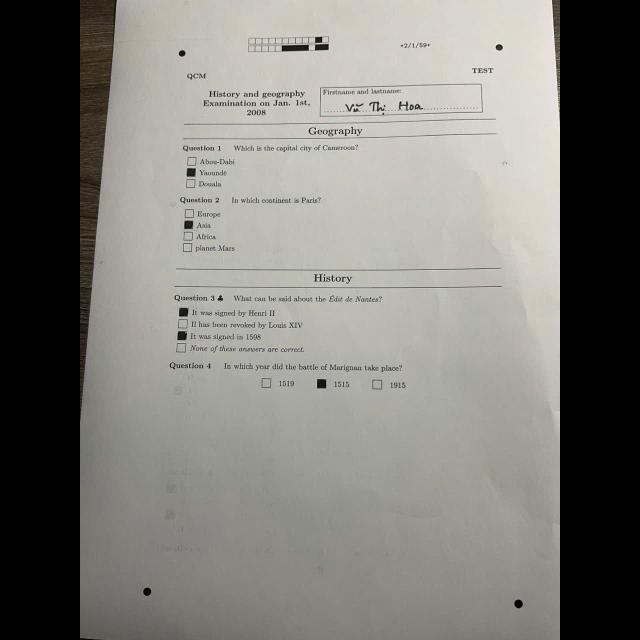Markers: (514, 599, 522, 609), (142, 588, 152, 596), (178, 50, 186, 56), (495, 44, 503, 50)
